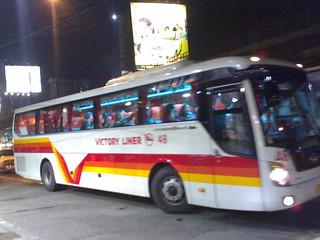bus: (10, 50, 320, 217)
